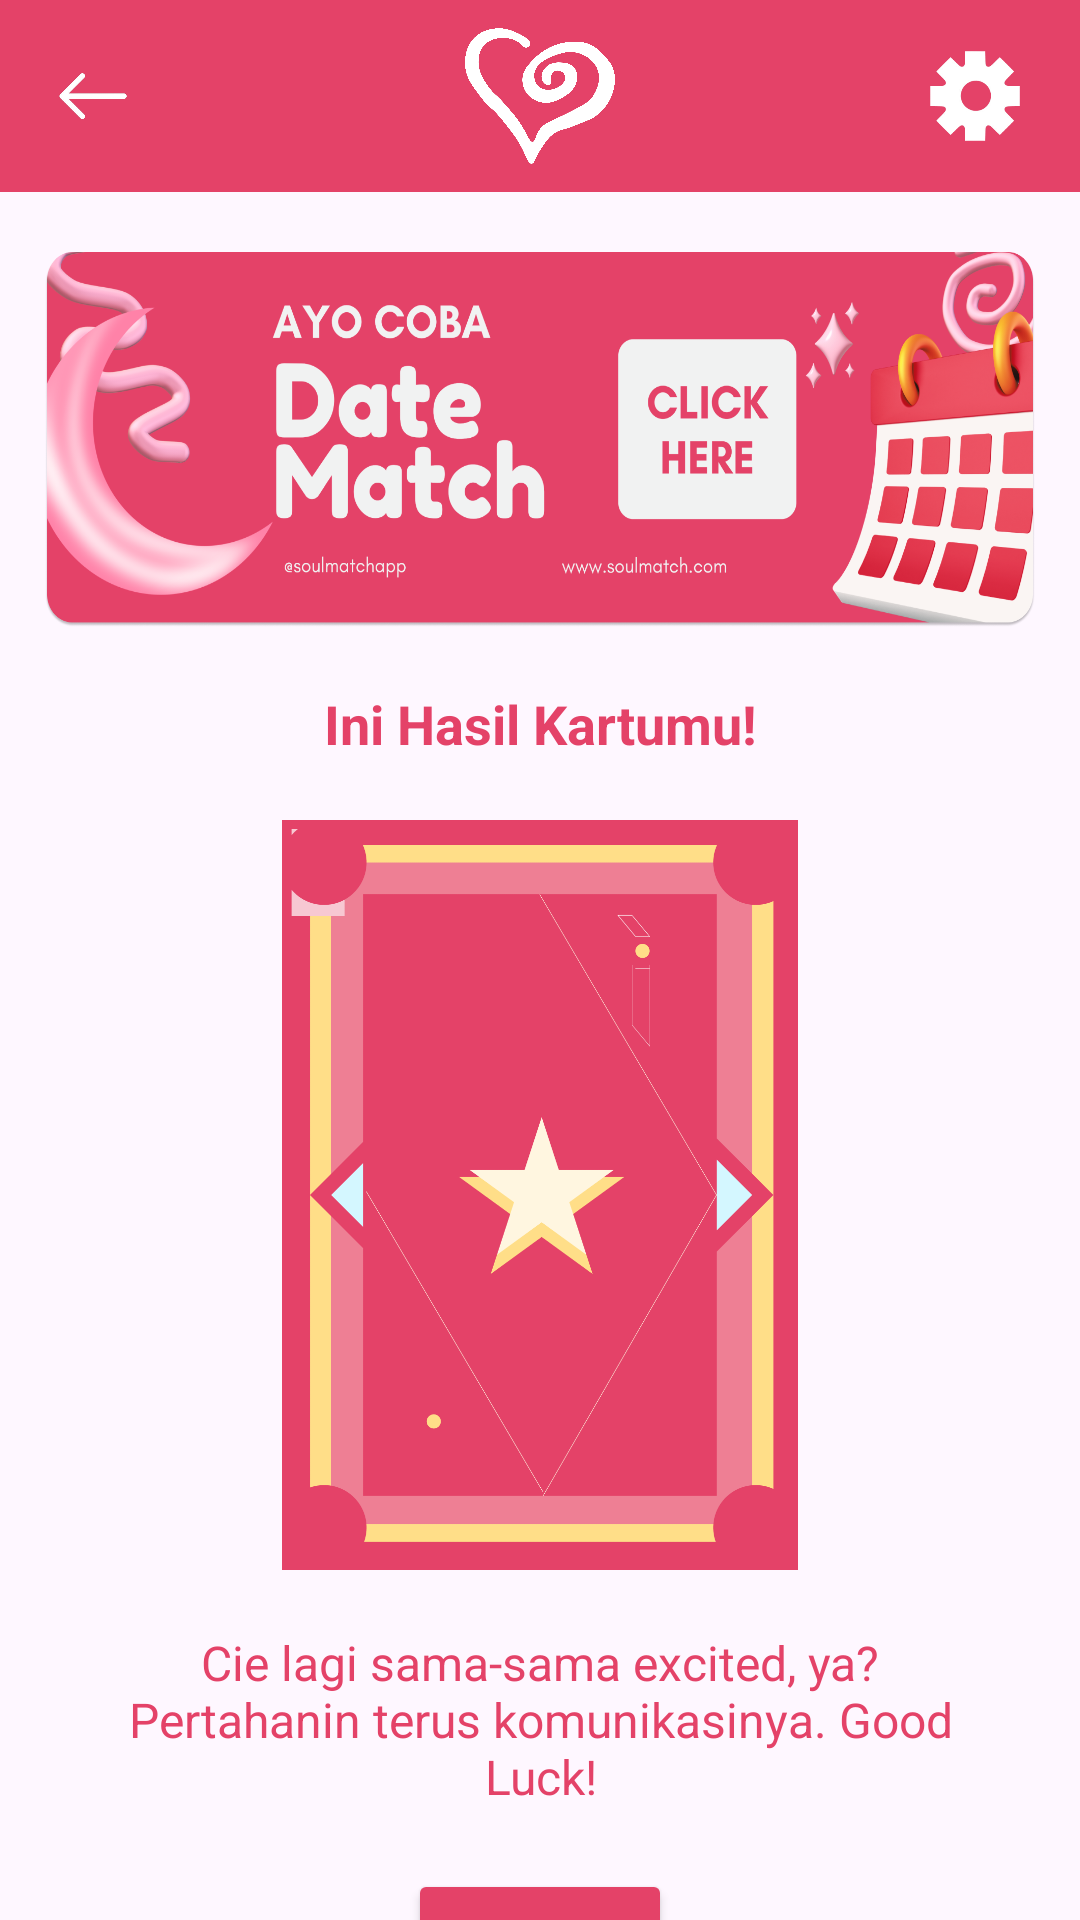

Where icons sit on this 1080×1920 app screen, as BBox(x1, y1, x2, y2):
Back Button: BBox(59, 73, 127, 119)
Settings Button: BBox(930, 51, 1020, 141)
